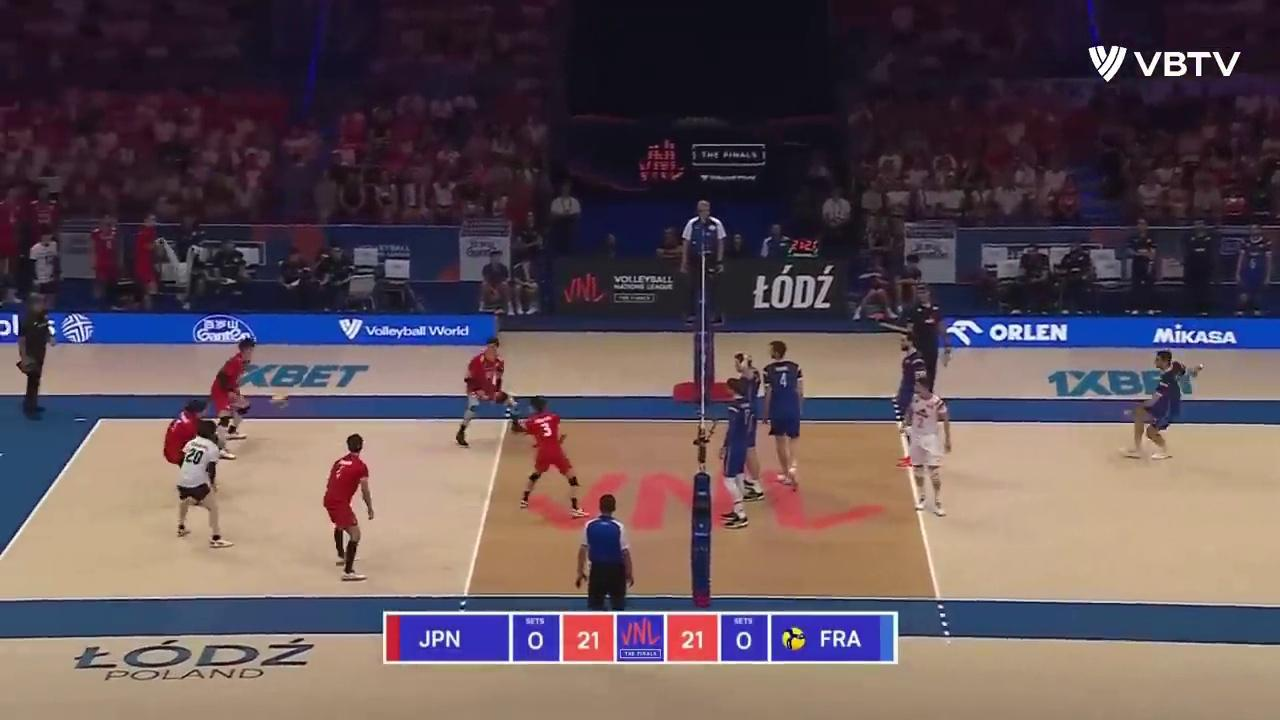ball: (272, 394, 288, 408)
